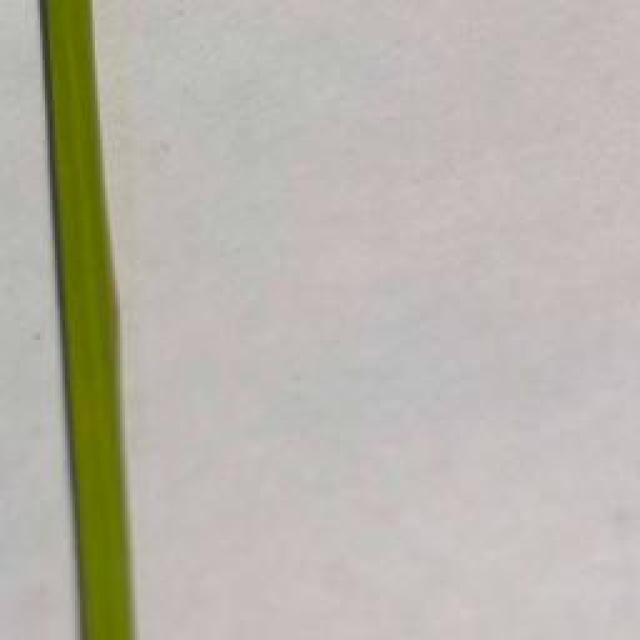Healthy-Plant: (31, 0, 136, 640)
